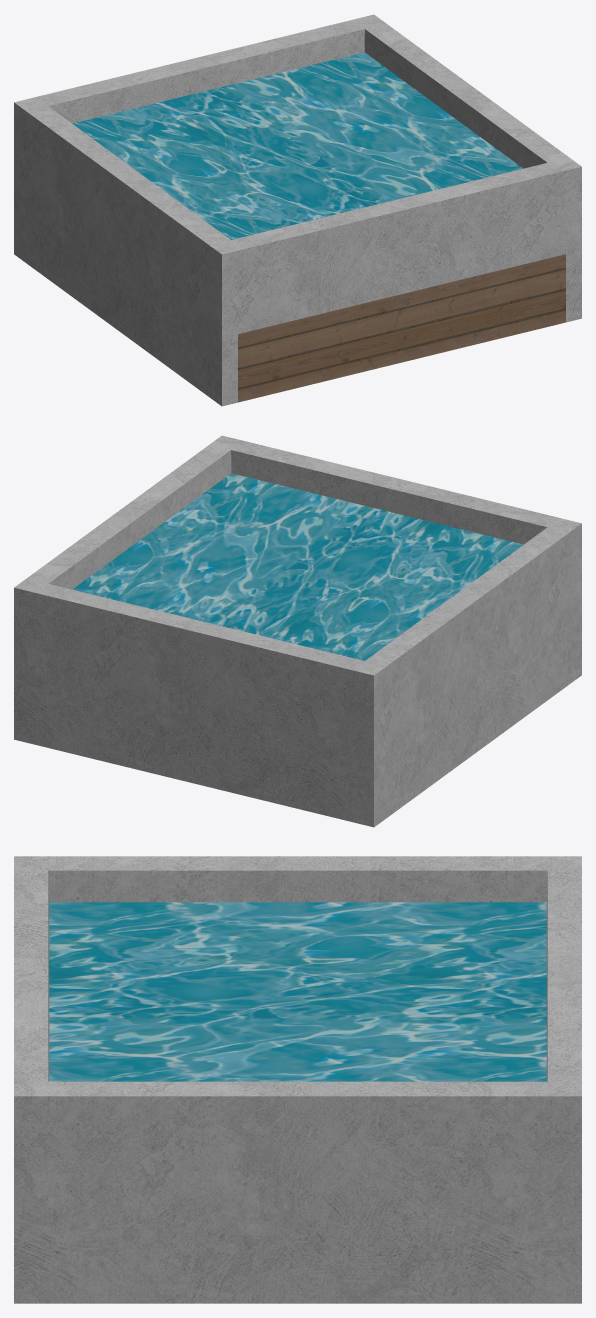
Rendered from lounge-pool.glb.
The picture shows the model from 3 angles, top to bottom: view 1: azimuth 30°, elevation 25°; view 2: azimuth 150°, elevation 25°; view 3: azimuth 270°, elevation 25°; orthographic projection. The views are drawn at different scales.
Parts seen in each view (by area): view 1: Geom3D (×3); view 2: Geom3D (×2); view 3: Geom3D (×2).
Part boxes in pixels (x1,y1,x2,y2): Geom3D (×3): (14,14,581,406); Geom3D (×2): (14,435,581,827); Geom3D (×2): (14,856,581,1303).
Size of the model in its own units: 2.48 by 1 by 2.48.
9 materials, 9 textured.
